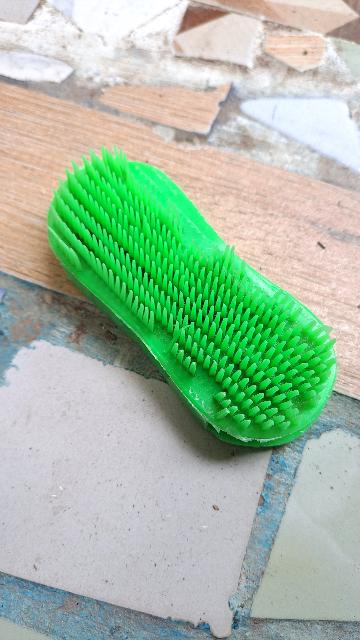hardplastic: (30, 129, 360, 467)
